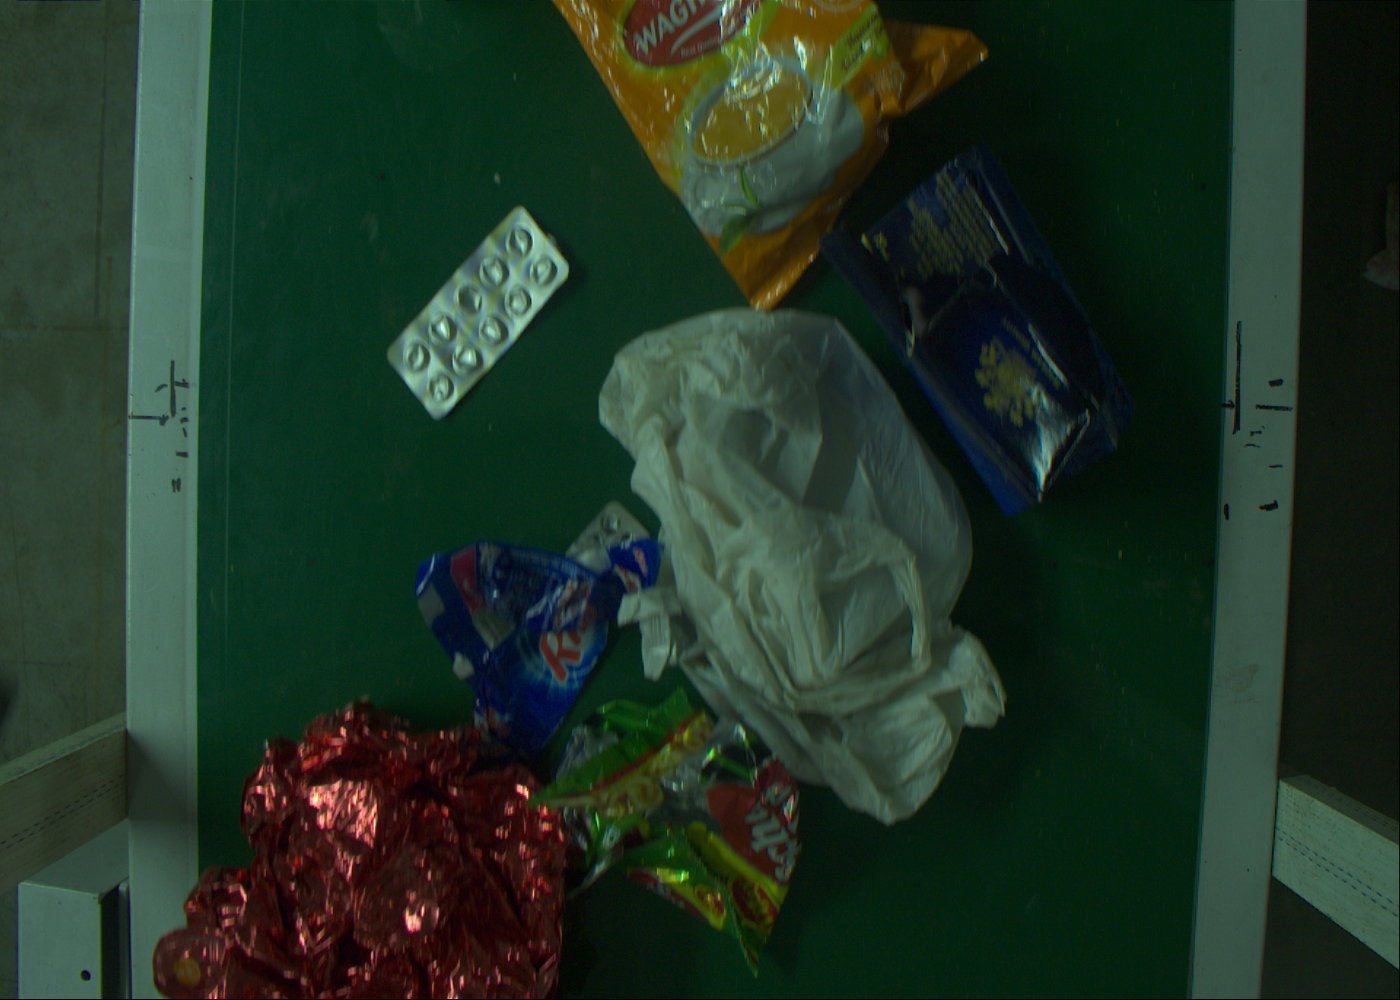aluminium_foil: (373, 195, 580, 436)
cardboard: (824, 154, 1139, 522)
hm_ldpe: (610, 305, 1009, 829)
multilayer_plastic: (520, 1, 968, 290), (538, 685, 813, 975)
pp_w: (172, 698, 572, 1000), (436, 487, 655, 758)
